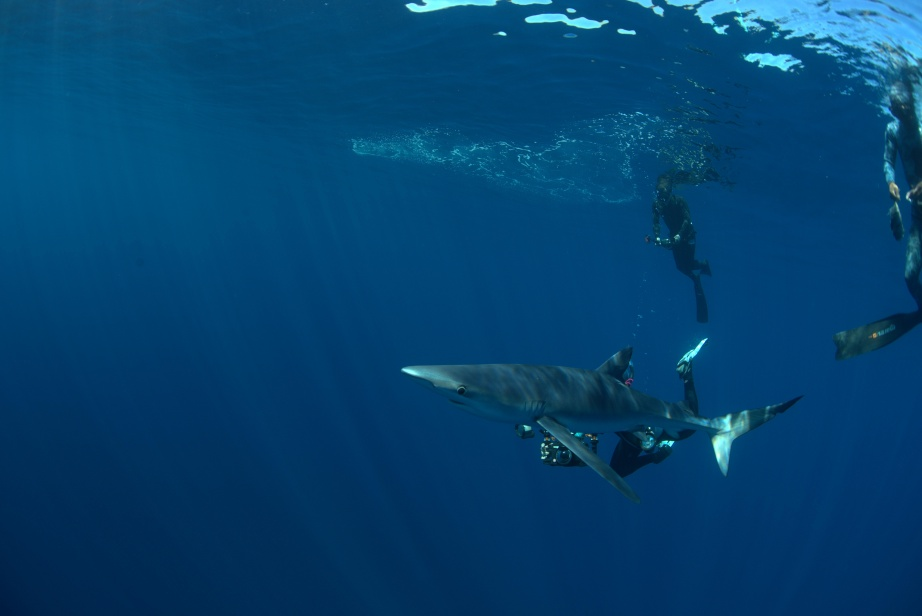Azul: (379, 311, 810, 510)
